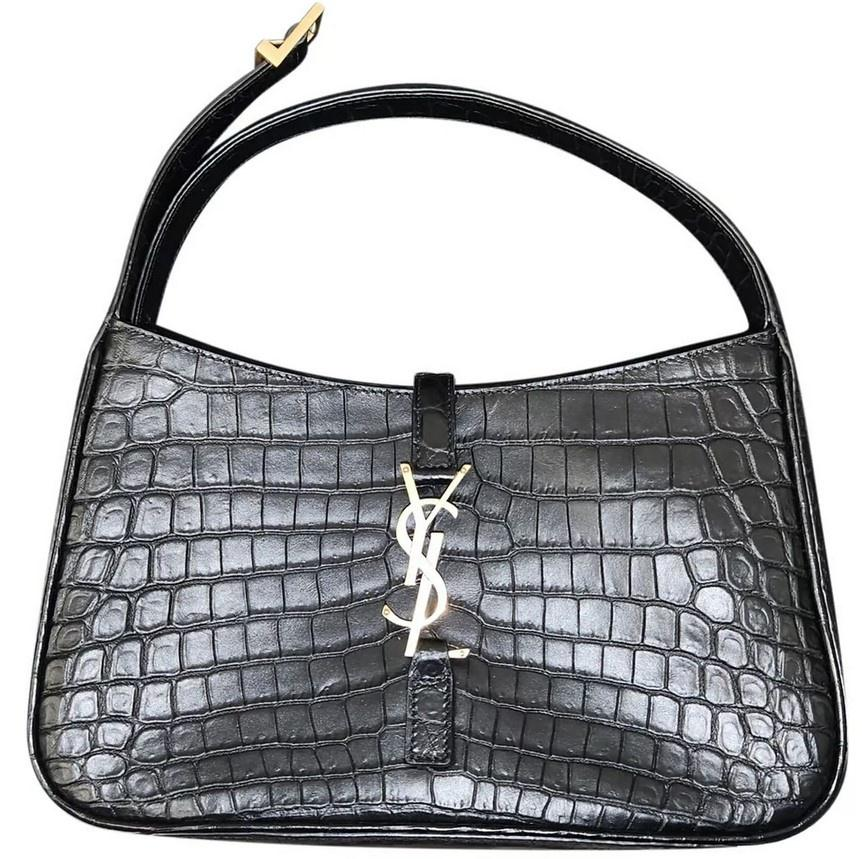YVES-SAINT-LAURENT: (382, 463, 471, 659)
